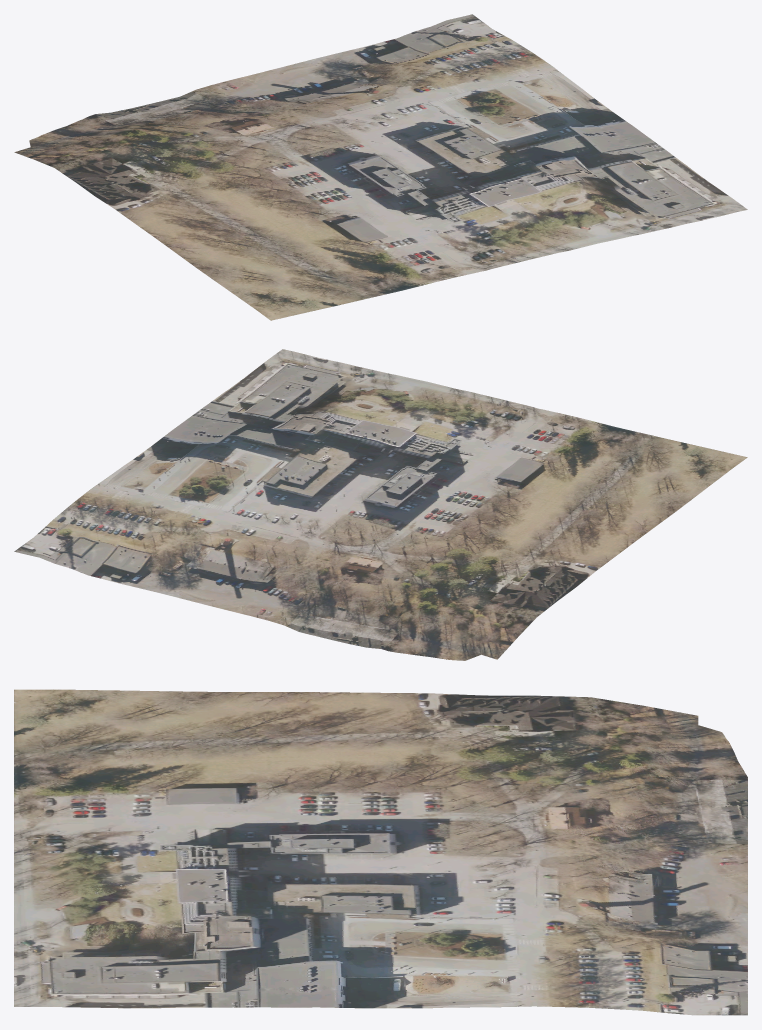
File: CM_Terrain_24486773_6819384.fbx
The picture shows the model from 3 angles, top to bottom: view 1: azimuth 30°, elevation 25°; view 2: azimuth 150°, elevation 25°; view 3: azimuth 270°, elevation 25°; orthographic projection. The views are drawn at different scales.
Parts seen in each view (by area): view 1: CM_Terrain_24486773_6819384_LOD0; view 2: CM_Terrain_24486773_6819384_LOD0; view 3: CM_Terrain_24486773_6819384_LOD0.
Boxes of the visible parts, box(x1,y1,x2,y2) form: CM_Terrain_24486773_6819384_LOD0: box(14, 14, 747, 320); CM_Terrain_24486773_6819384_LOD0: box(14, 349, 747, 660); CM_Terrain_24486773_6819384_LOD0: box(14, 689, 747, 1015).
Size of what is drawn, in the model's own units: 205 by 10.6 by 205.
